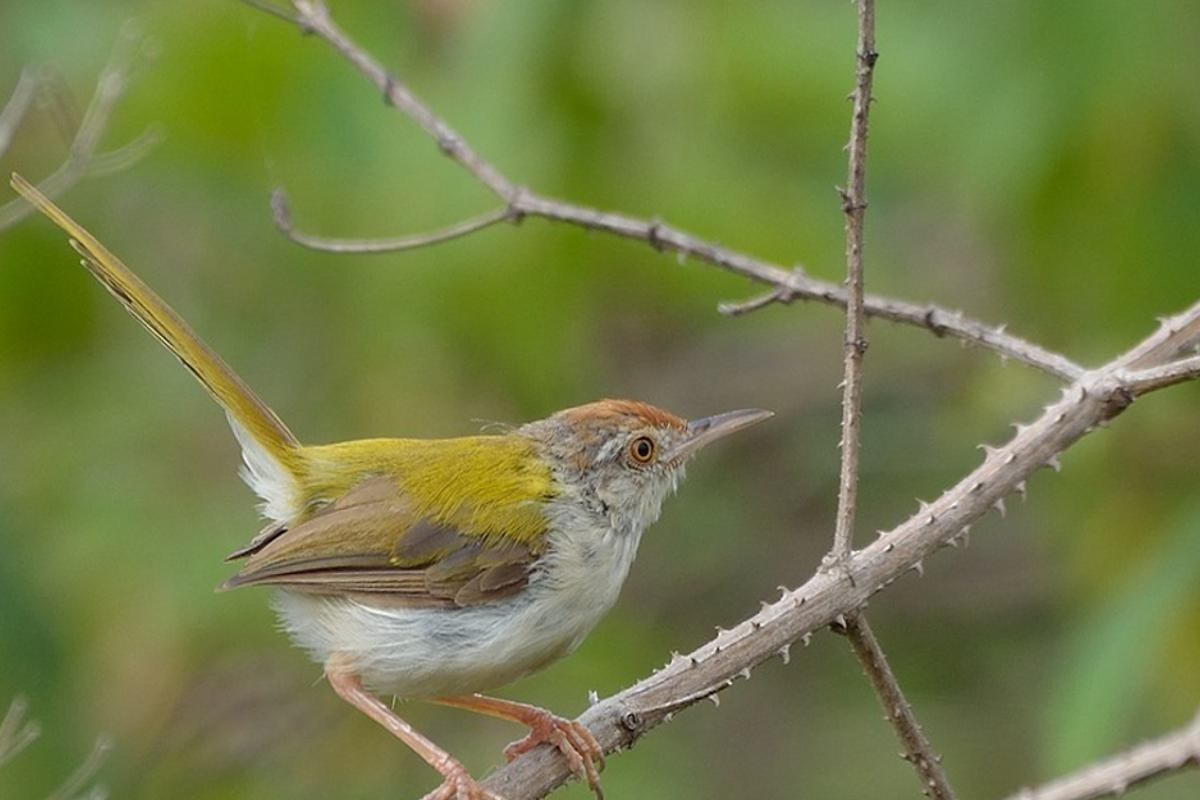tailorbird: (96, 198, 835, 774)
